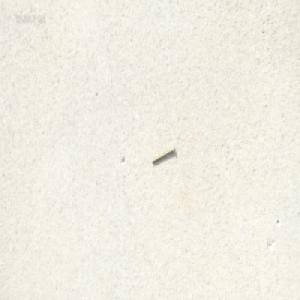Bolt: (151, 144, 174, 165)
